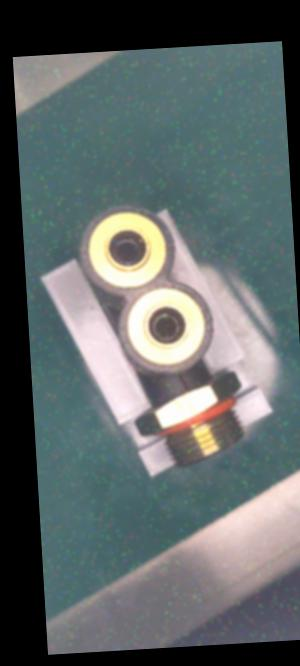craze: (176, 369, 189, 392)
